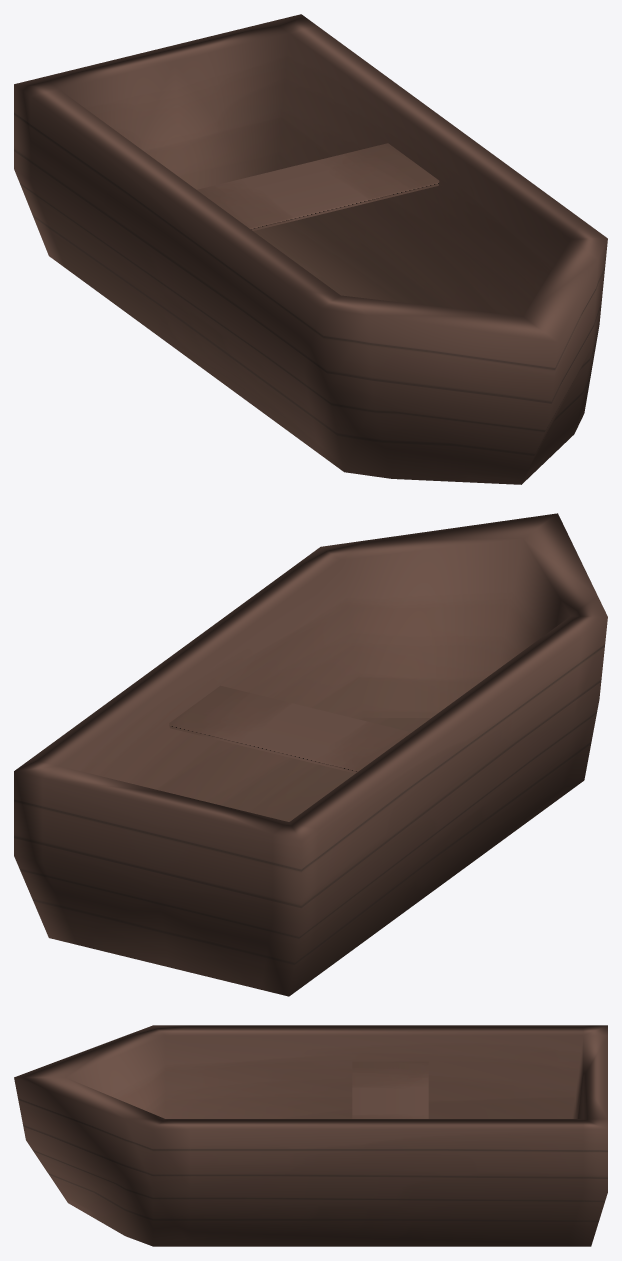
Rendered from Boat.fbx.
3 views of the same model, one above another, from view 1: azimuth 30°, elevation 25°; view 2: azimuth 150°, elevation 25°; view 3: azimuth 270°, elevation 25° (orthographic). The views are drawn at different scales.
Parts seen in each view (by area): view 1: Boat; view 2: Boat; view 3: Boat.
Part boxes in pixels (bbox=[...]): Boat: bbox=[14, 14, 607, 484]; Boat: bbox=[14, 513, 607, 996]; Boat: bbox=[14, 1025, 607, 1246].
Bounding box in the file's own units: 12.46 × 7.02 × 30.06.
